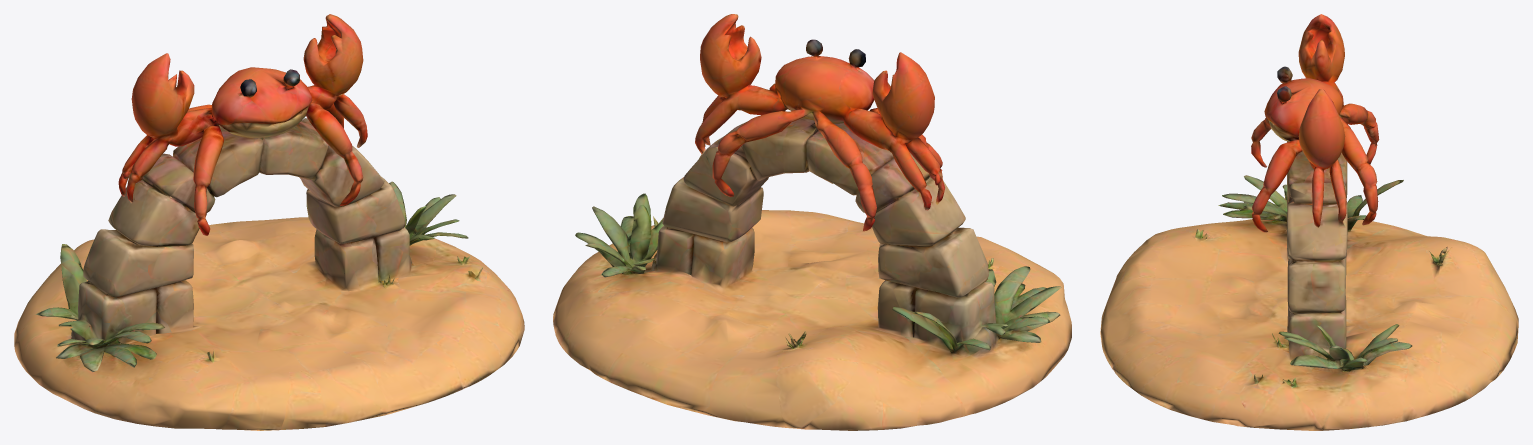
The model's file is crabarch.glb.
The picture shows the model from 3 angles, left to right: view 1: azimuth 30°, elevation 25°; view 2: azimuth 150°, elevation 25°; view 3: azimuth 270°, elevation 25°; orthographic projection. The views are drawn at different scales.
Bounding box in the file's own units: 2 × 1.28 × 1.76.
Materials: 1 (1 with a texture image).
